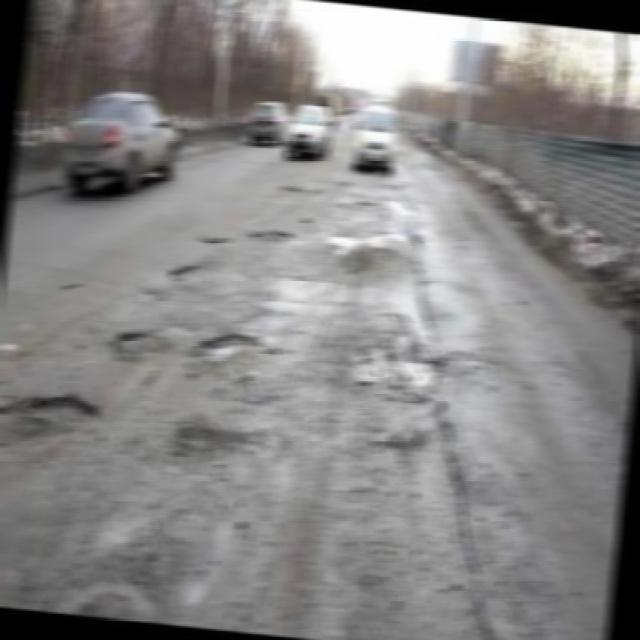Pothole: (0, 384, 102, 464), (205, 330, 281, 369), (169, 262, 255, 296), (108, 328, 181, 364), (247, 228, 297, 246), (282, 181, 320, 201), (198, 236, 237, 250), (299, 214, 317, 228)
